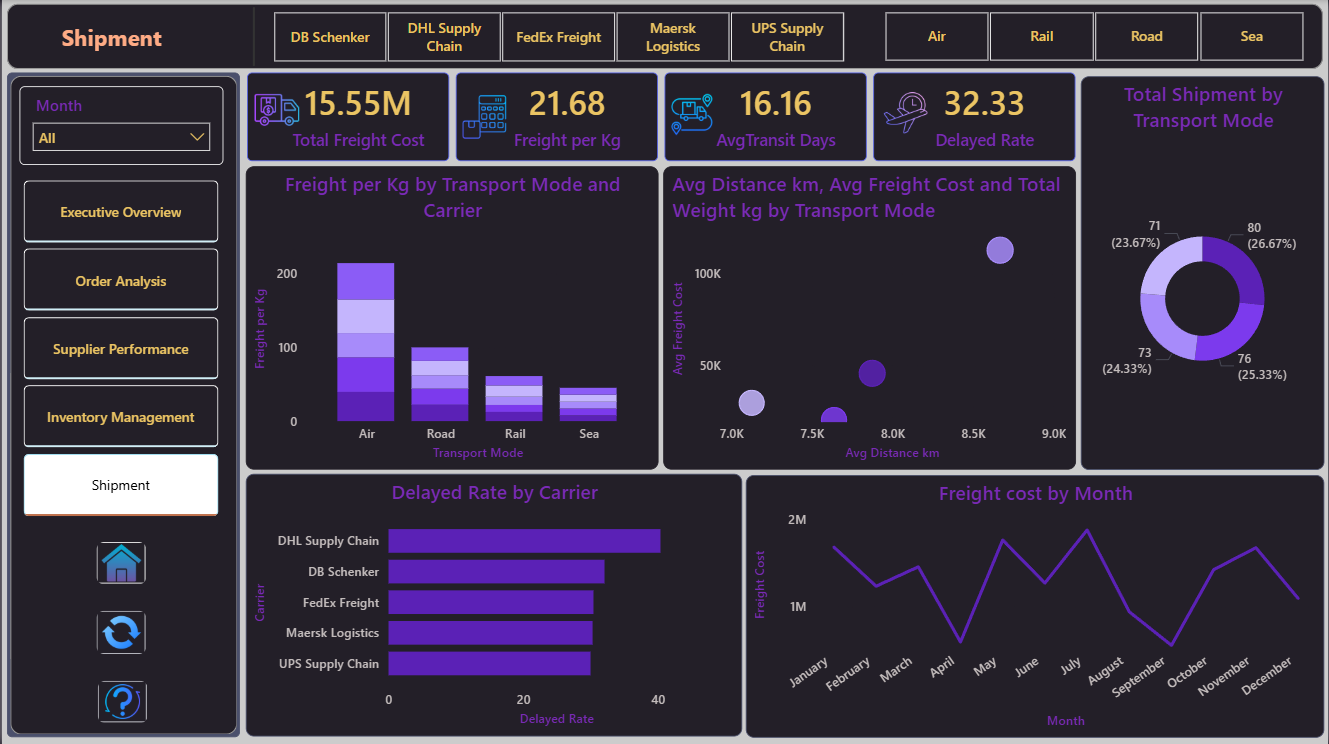

This screenshot's page, from the dashboard's own definition file:
{"tool":"powerbi","page":{"name":"Shipment ","canvas":[1280,720],"ordinal":4},"visuals":[{"type":"shape","box":[4.8,70,225,641.8],"z":0},{"type":"shape","box":[0,4,1280,63],"z":1000},{"type":"shape","box":[235.3,6,15.7,58],"z":2000},{"type":"card","fields":{"Values":["Sum(Shipments.Freight_Cost)"]},"box":[236.5,70,195.4,85.7],"z":3000},{"type":"textbox","box":[44.6,9.7,143.6,57.9],"z":4000},{"type":"card","fields":{"Values":["Shipments.Freight_per_Kg"]},"box":[437.9,70,195.4,85.7],"z":5000},{"type":"card","fields":{"Values":["Avg(Shipments.Transit_Days)"]},"box":[639.4,70,195.4,85.7],"z":6000},{"type":"card","fields":{"Values":["Shipments.Delayed_Rate"]},"box":[840.9,70,195.4,85.7],"z":7000},{"type":"columnChart","fields":{"Category":["Shipments.Transport_Mode"],"Y":["Shipments.Freight_per_Kg"],"Series":["Shipments.Carrier"]},"box":[235.3,160.5,398.1,293.2],"z":8000},{"type":"scatterChart","fields":{"X":["Avg(Shipments.Distance_km)"],"Y":["Avg(Shipments.Freight_Cost)"],"Size":["Sum(Shipments.Weight_kg)"],"Series":["Shipments.Transport_Mode"]},"box":[638.2,160.5,398.1,293.2],"z":9000},{"type":"donutChart","title":"Total Shipment by Transport Mode","fields":{"Category":["Shipments.Transport_Mode"],"Y":["CountNonNull(Shipments.Shipment_ID)"]},"box":[1041.2,73.6,235.3,380],"z":10000},{"type":"barChart","title":"Delayed Rate by Carrier","fields":{"Category":["Shipments.Carrier"],"Y":["Shipments.Delayed_Rate"]},"box":[235.3,457.2,479,253.4],"z":11000},{"type":"lineChart","title":"Freight cost by Month","fields":{"Category":["Shipments.Shipment_Date.Variation.Date Hierarchy.Month"],"Y":["Sum(Shipments.Freight_Cost)"]},"box":[717.8,458.4,558.6,253.4],"z":12000},{"type":"slicer","fields":{"Values":["Shipments.Shipment_Date.Variation.Date Hierarchy.Year","Shipments.Shipment_Date.Variation.Date Hierarchy.Month"]},"box":[16.9,83.2,196.6,76],"z":13000},{"type":"slicer","fields":{"Values":["Shipments.Transport_Mode"]},"box":[826.4,4.8,453.6,60.3],"z":14000},{"type":"slicer","fields":{"Values":["Shipments.Carrier"]},"box":[236.5,4.8,599.6,61.5],"z":15000},{"type":"pageNavigator","box":[16.9,170.1,196.6,336.6],"z":16000},{"type":"image","box":[243.7,84.5,43.4,43.4],"z":17000},{"type":"image","box":[444,90.5,43.4,44.6],"z":18000},{"type":"image","box":[644.2,90.5,43.4,39.8],"z":19000},{"type":"image","box":[850.5,86.9,43,44],"z":20000},{"type":"image","box":[90.5,588.7,49.5,43.4],"z":21000},{"type":"image","box":[91.7,656.3,49.5,42.2],"z":22000},{"type":"image","box":[90.5,522.4,49.5,42.2],"z":23000}]}

Visuals, with their boxes in screenshot pixels (x1, y1, x2, y2), scaled from the page's 1280x720 canvas onto the 1329x744 screenshot:
shape: <box>5,72,239,736</box>
shape: <box>0,4,1328,69</box>
shape: <box>244,6,261,66</box>
card - Sum(Shipments.Freight_Cost): <box>246,72,448,161</box>
textbox: <box>46,10,195,70</box>
card - Shipments.Freight_per_Kg: <box>455,72,658,161</box>
card - Avg(Shipments.Transit_Days): <box>664,72,867,161</box>
card - Shipments.Delayed_Rate: <box>873,72,1076,161</box>
columnChart - Shipments.Transport_Mode x Shipments.Freight_per_Kg: <box>244,166,658,469</box>
scatterChart - Avg(Shipments.Distance_km) x Avg(Shipments.Freight_Cost): <box>663,166,1076,469</box>
"Total Shipment by Transport Mode" donutChart: <box>1081,76,1325,469</box>
"Delayed Rate by Carrier" barChart: <box>244,472,742,734</box>
"Freight cost by Month" lineChart: <box>745,474,1325,736</box>
slicer - Shipments.Shipment_Date.Variation.Date Hierarchy.Year x Shipments.Shipment_Date.Variation.Date Hierarchy.Month: <box>18,86,222,165</box>
slicer - Shipments.Transport_Mode: <box>858,5,1328,67</box>
slicer - Shipments.Carrier: <box>246,5,868,69</box>
pageNavigator: <box>18,176,222,524</box>
image: <box>253,87,298,132</box>
image: <box>461,94,506,140</box>
image: <box>669,94,714,135</box>
image: <box>883,90,928,135</box>
image: <box>94,608,145,653</box>
image: <box>95,678,147,722</box>
image: <box>94,540,145,583</box>
